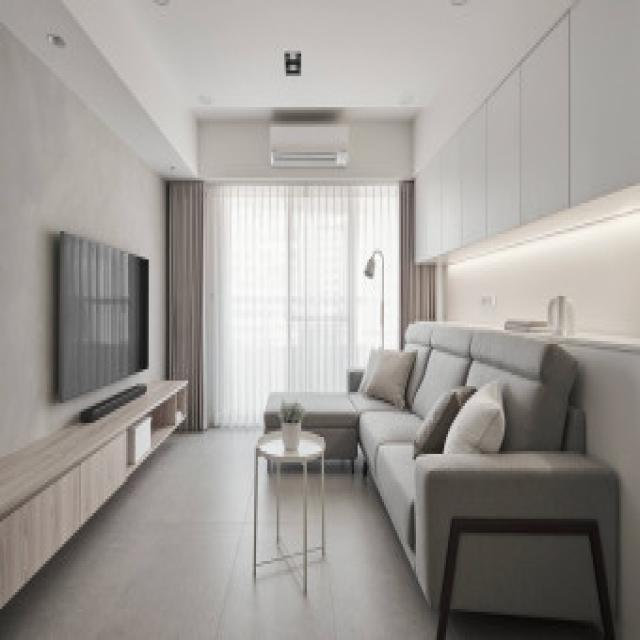Sofa: (360, 306, 617, 634)
Table: (256, 422, 330, 590)
tv: (57, 233, 149, 391)
window: (169, 180, 398, 370)
